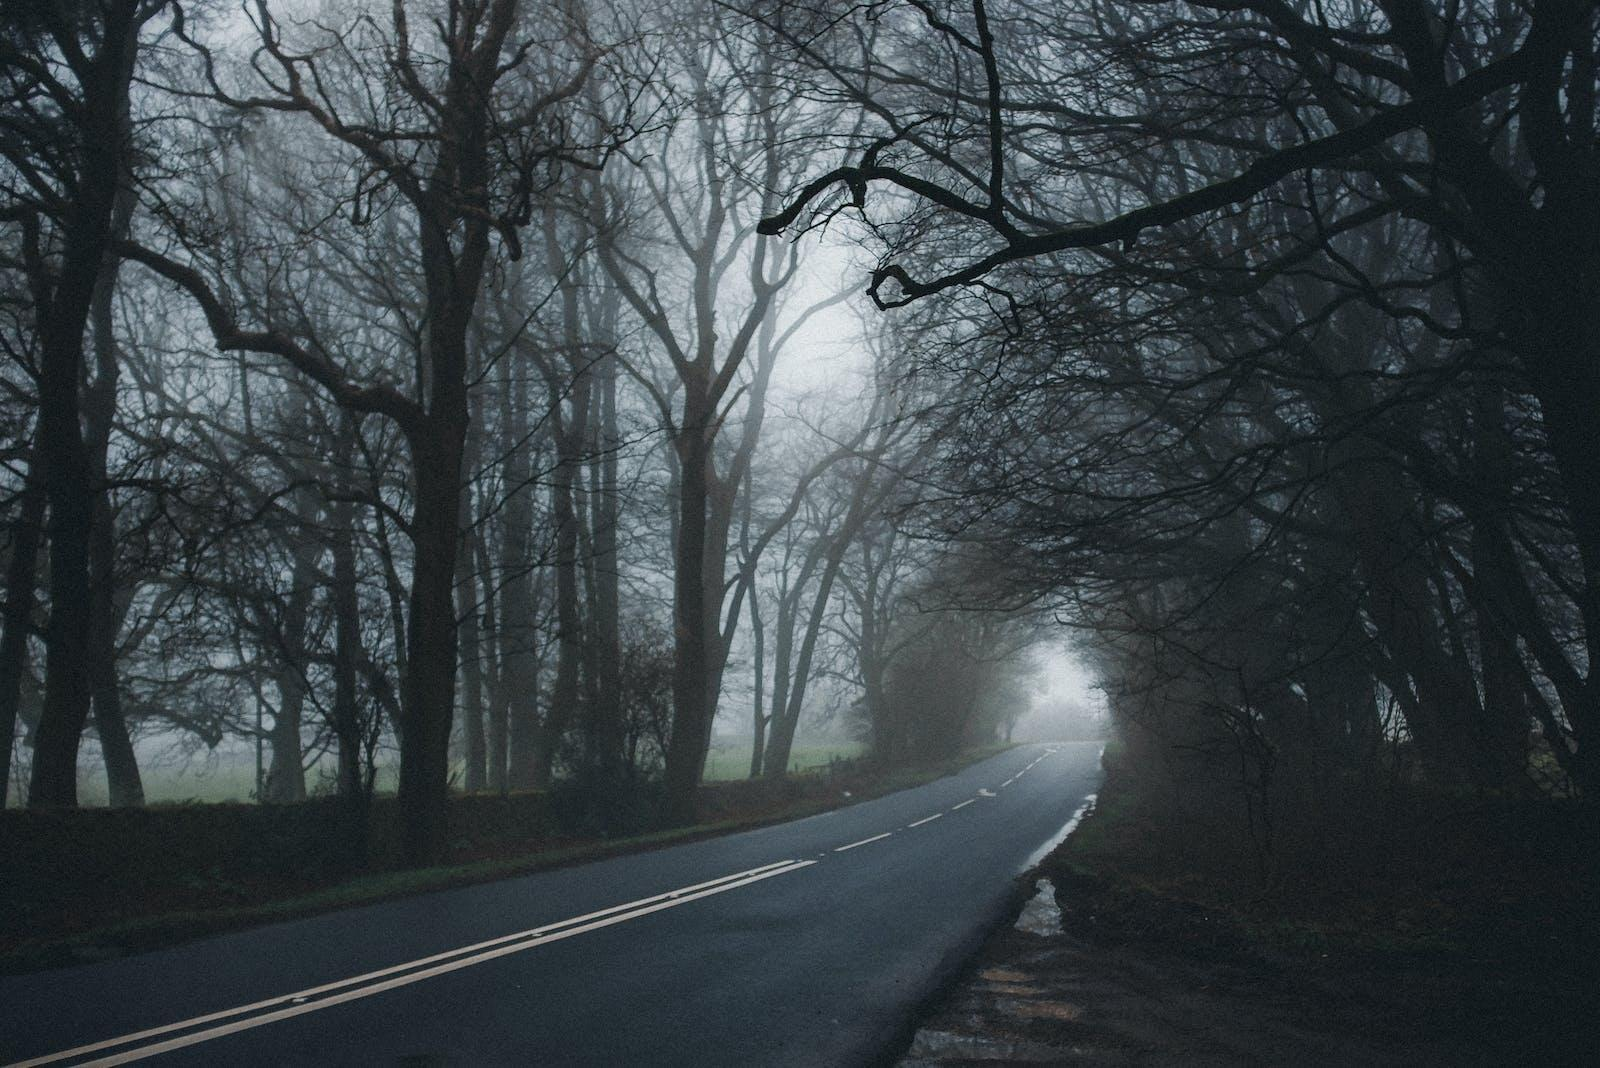road: (0, 743, 1101, 1066)
